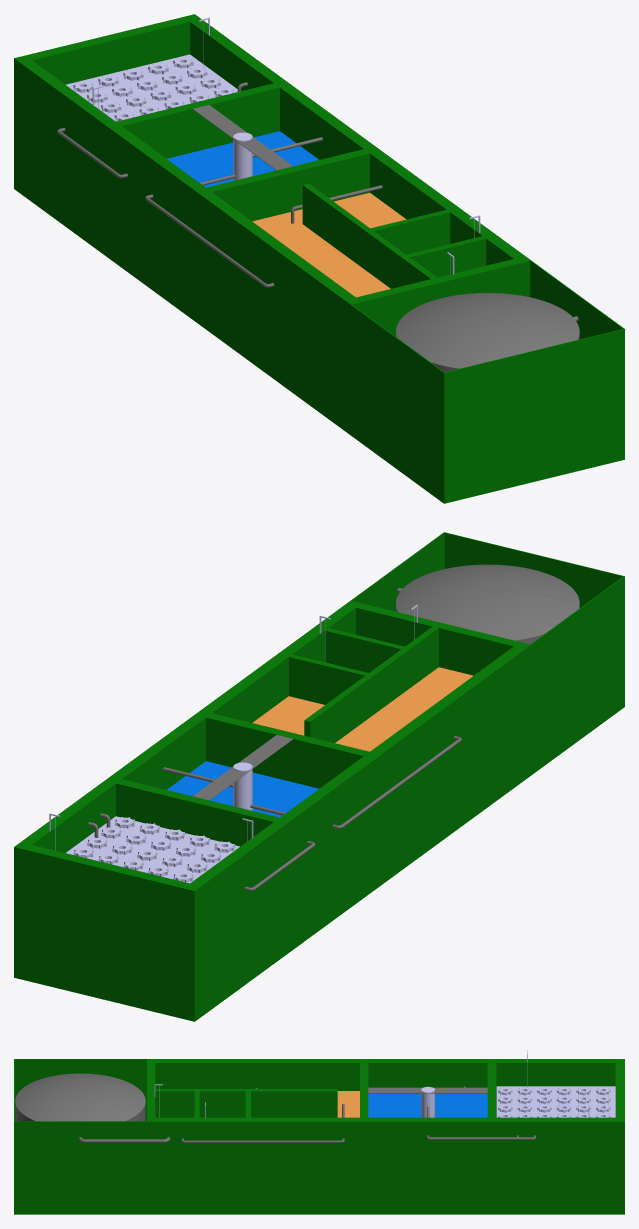
3 views of the same model, one above another, from view 1: azimuth 30°, elevation 25°; view 2: azimuth 150°, elevation 25°; view 3: azimuth 270°, elevation 25° (orthographic). The views are drawn at different scales.
Parts seen in each view (by area): view 1: NONE_DC_Brep; view 2: NONE_DC_Brep; view 3: NONE_DC_Brep.
Boxes of the visible parts, x1,y1,x2,y2 form: NONE_DC_Brep: [14, 14, 624, 503]; NONE_DC_Brep: [14, 532, 624, 1021]; NONE_DC_Brep: [14, 1050, 624, 1214].
Size of the model in its own units: 9560 by 6810 by 35847.
